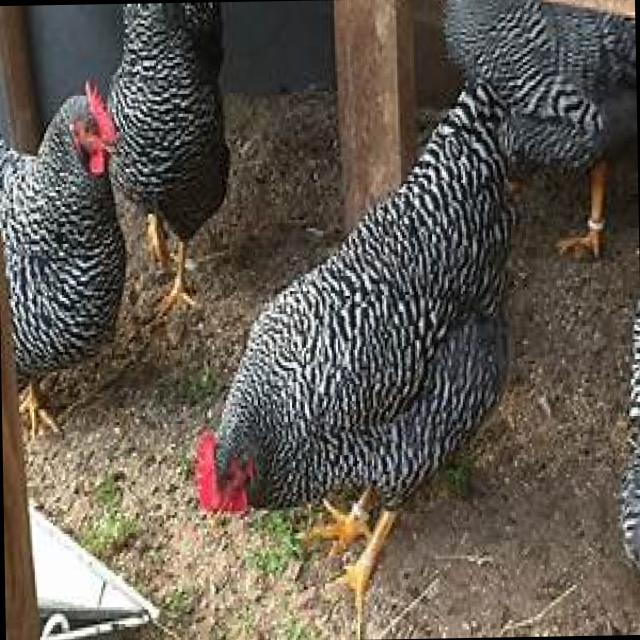chicken: (182, 77, 529, 640), (437, 0, 639, 261), (0, 74, 130, 440), (99, 1, 232, 328)
